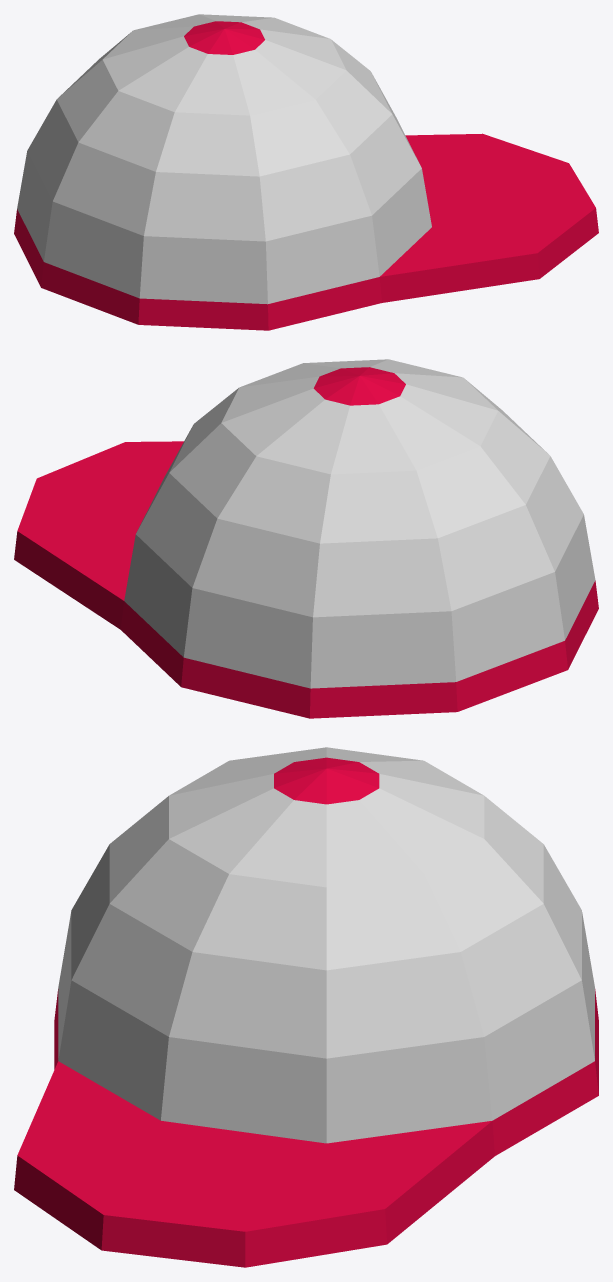
File: baseballCap.fbx
3 views of the same model, one above another, from view 1: azimuth 30°, elevation 25°; view 2: azimuth 150°, elevation 25°; view 3: azimuth 270°, elevation 25° (orthographic). The views are drawn at different scales.
Parts seen in each view (by area): view 1: pSphere1; view 2: pSphere1; view 3: pSphere1.
Part boxes in pixels (x1,y1,x2,y2): pSphere1: (14, 14, 598, 330); pSphere1: (14, 359, 598, 718); pSphere1: (14, 747, 598, 1267).
Size of the model in its own units: 2770 by 1133 by 2073.
